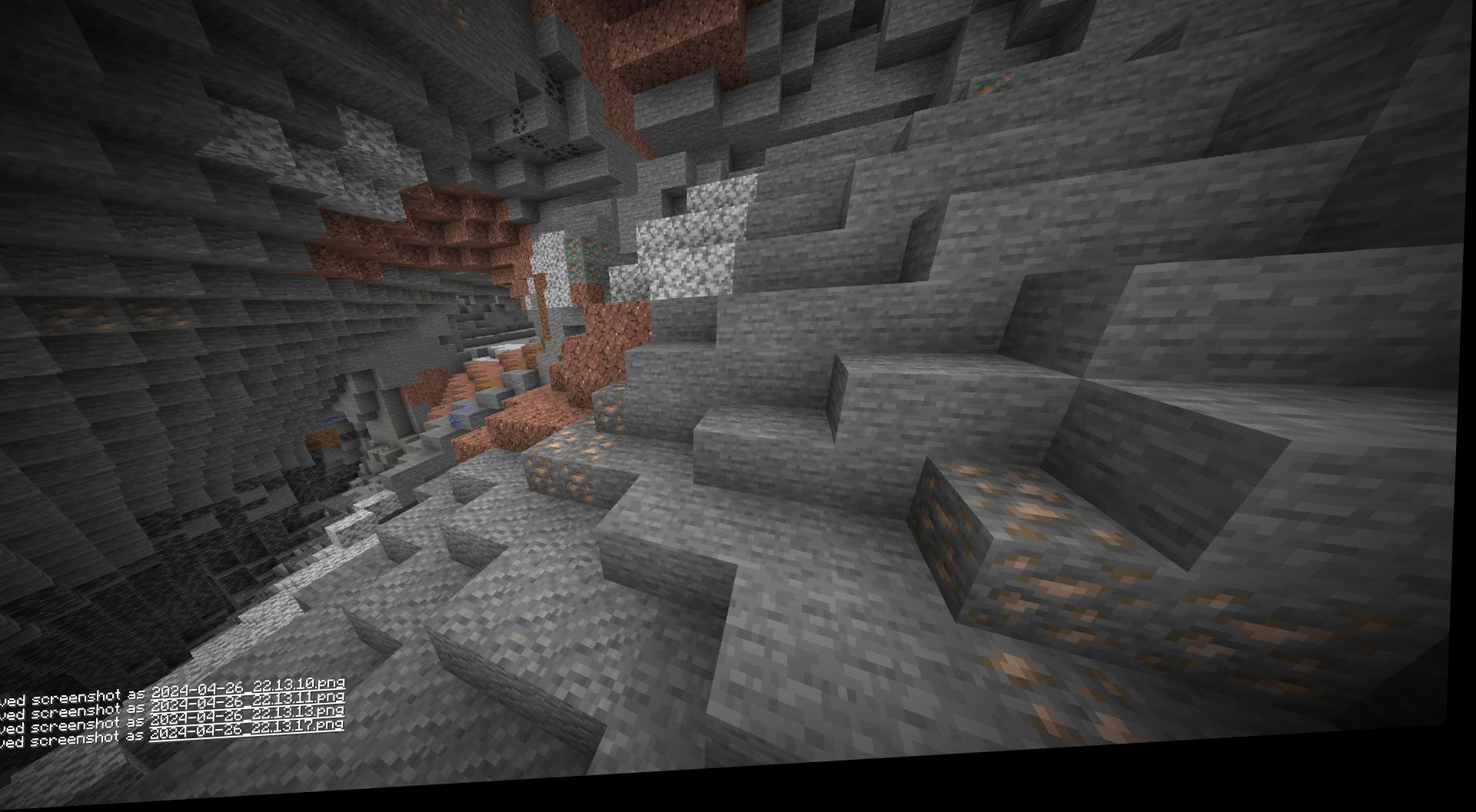iron ore: (946, 459, 1156, 660), (1185, 584, 1402, 734), (999, 654, 1152, 764), (528, 436, 611, 501), (27, 295, 130, 344), (115, 293, 199, 339), (584, 388, 636, 435), (427, 0, 476, 32)
